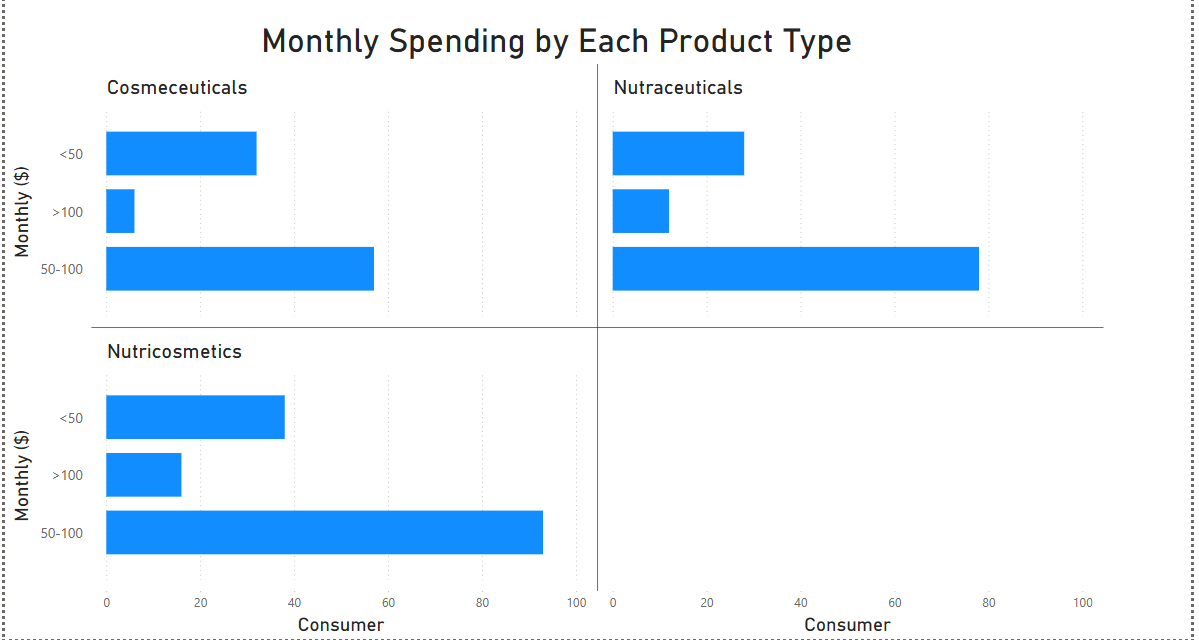

Layout of this report page (visuals, bound fields, positions):
{"tool":"powerbi","page":{"name":"Monthly Spending by Product Type","canvas":[1280,720],"ordinal":4},"visuals":[{"type":"clusteredBarChart","title":"Monthly Spending by Each Product Type","fields":{"Category":["Sheet1.Monthly  ($)"],"Y":["CountNonNull(Sheet1.ID)"],"Rows":["Sheet1.Product Type"]},"box":[0,53,1191.5,667.6],"z":0}]}

Visuals, with their boxes on the page's 1280x720 design canvas (x1, y1, x2, y2). These are canvas units, not pixel positions in the 1199x640 screenshot, which may show the page scaled, cropped or inside an application window:
"Monthly Spending by Each Product Type" clusteredBarChart: select_region(0, 53, 1192, 721)
